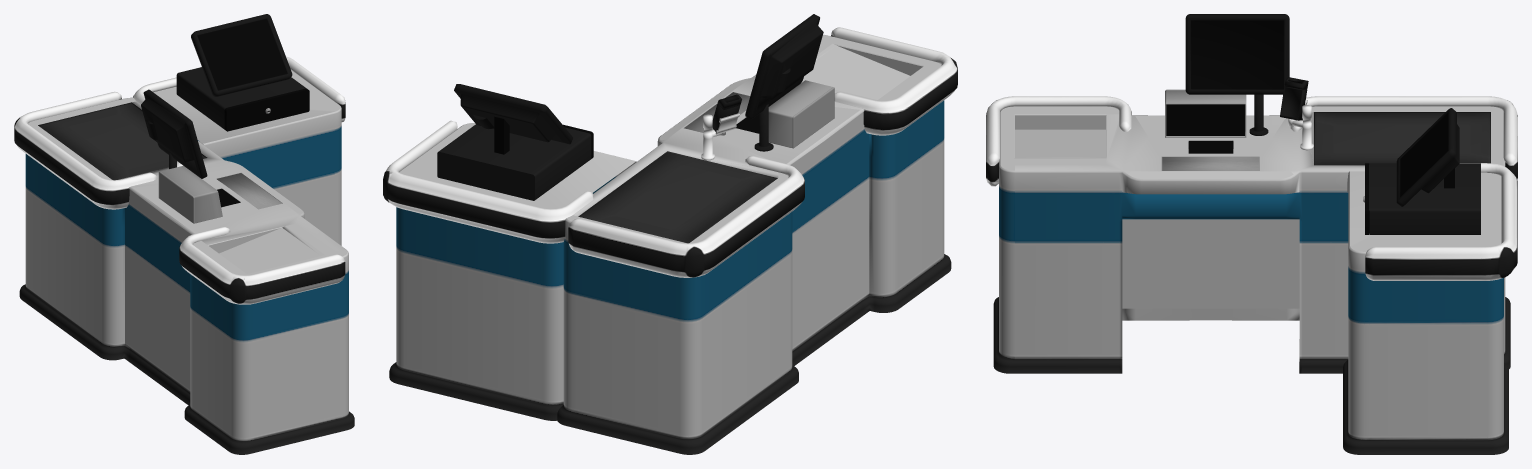
The model's file is pos.fbx.
The picture shows the model from 3 angles, left to right: view 1: azimuth 30°, elevation 25°; view 2: azimuth 150°, elevation 25°; view 3: azimuth 270°, elevation 25°; orthographic projection. The views are drawn at different scales.
Parts seen in each view (by area): view 1: body_skin_body_0.002, body_skin_body_0.004, body_skin_body_0.005, Cube.065, Cube.066; view 2: body_skin_body_0.002, body_skin_body_0.004, Cube.065, body_skin_body_0.005, body_skin_body_0.006; view 3: body_skin_body_0.002, body_skin_body_0.004, body_skin_body_0.005, Cube.065, body_skin_body_0.006.
Part boxes in pixels (x1,y1,x2,y2): body_skin_body_0.002: (19, 70, 354, 454); body_skin_body_0.004: (14, 14, 345, 304); body_skin_body_0.005: (141, 89, 207, 178); Cube.065: (176, 67, 305, 129); Cube.066: (224, 88, 309, 131); body_skin_body_0.002: (389, 34, 951, 454); body_skin_body_0.004: (383, 27, 957, 277); Cube.065: (437, 124, 591, 200); body_skin_body_0.005: (745, 14, 823, 119); body_skin_body_0.006: (701, 94, 741, 160); body_skin_body_0.002: (993, 106, 1510, 454); body_skin_body_0.004: (986, 89, 1517, 280); body_skin_body_0.005: (1185, 14, 1289, 94); Cube.065: (1369, 163, 1480, 234); body_skin_body_0.006: (1280, 77, 1313, 150).
Size of the model in its own units: 55.47 by 50.79 by 78.94.
Materials: 3 (3 with a texture image).
